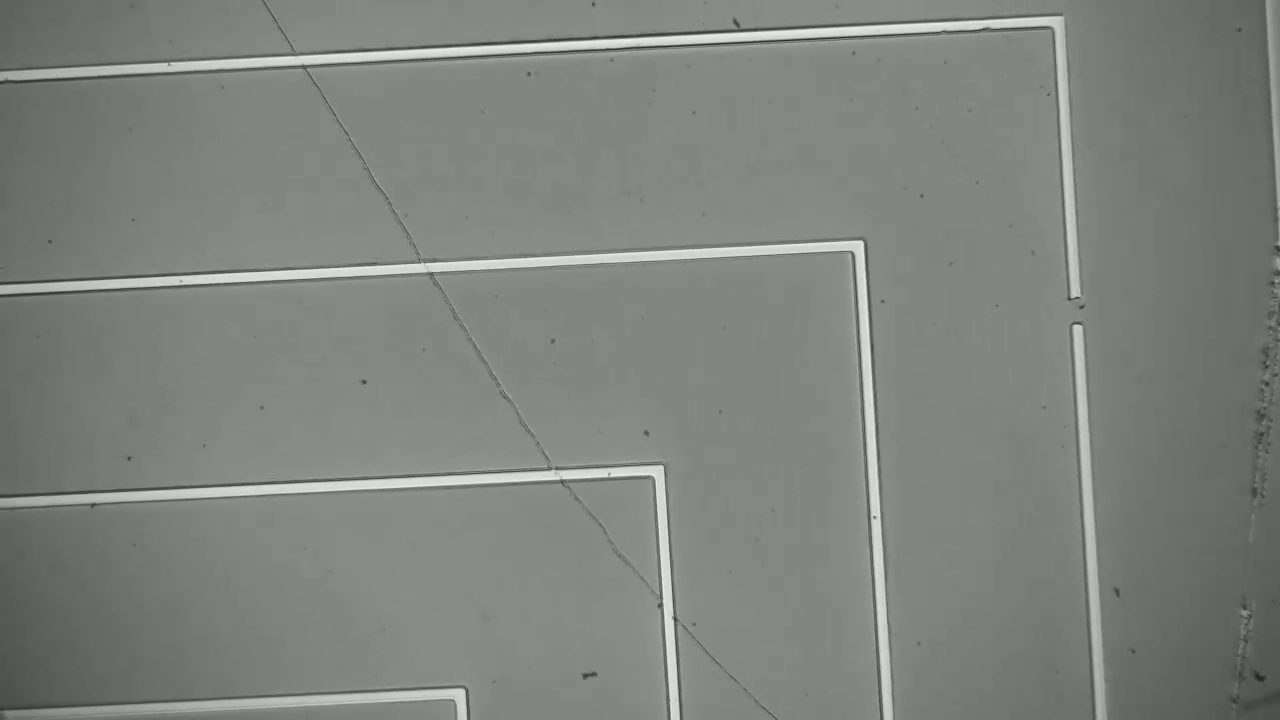scratch: (254, 0, 782, 716), (1210, 235, 1268, 716), (1050, 277, 1099, 350)
